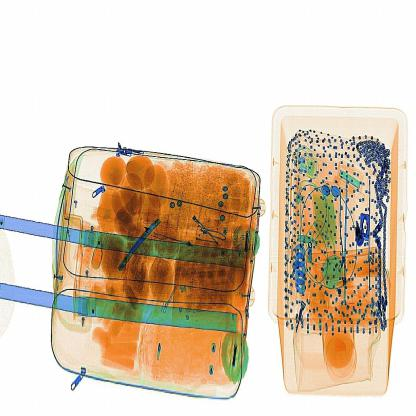pliers: (122, 208, 169, 280)
